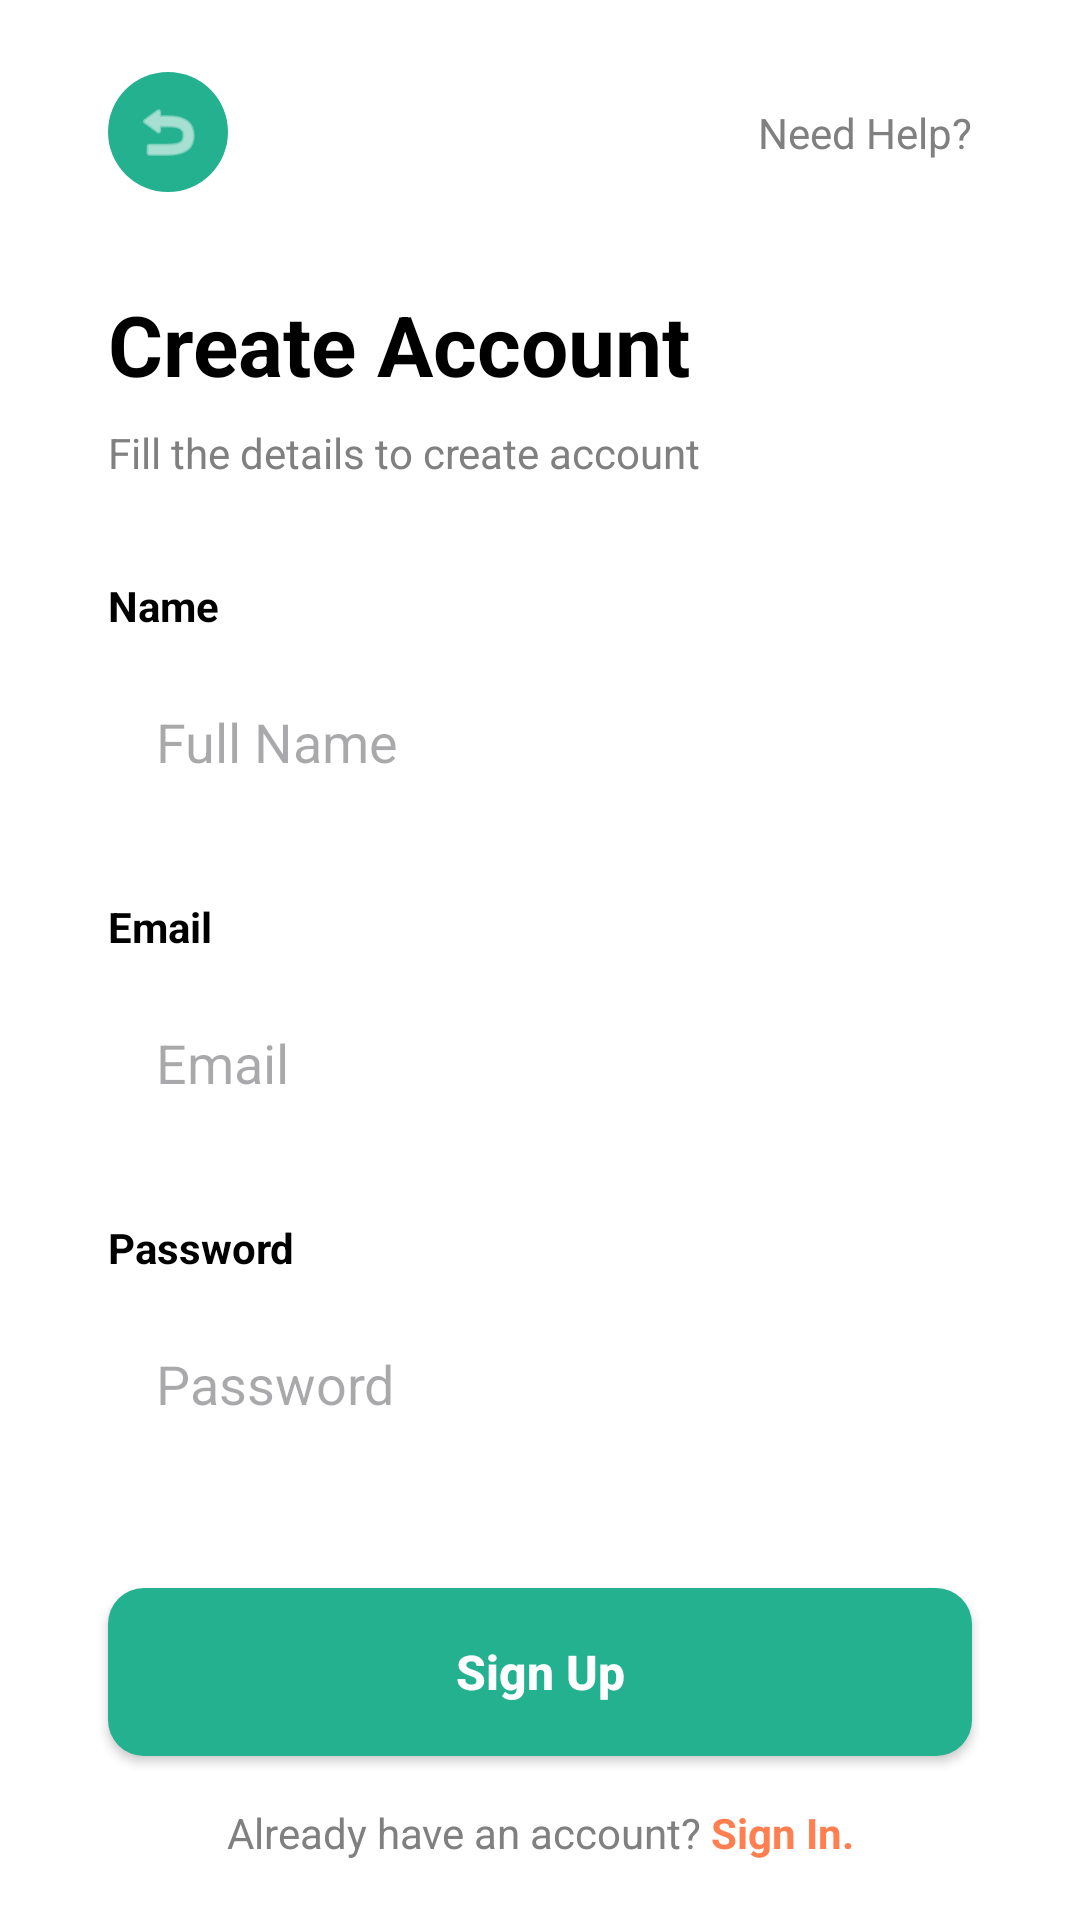

Screen size 1080×1920. Icon name, then its box in pixels as (x1, y1, x2, y2):
revert: (108, 72, 228, 192)
